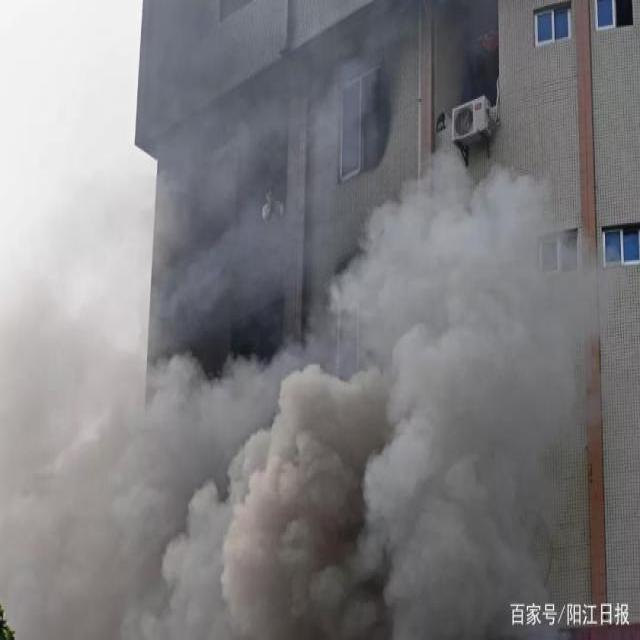Smoke: (1, 60, 640, 640)
